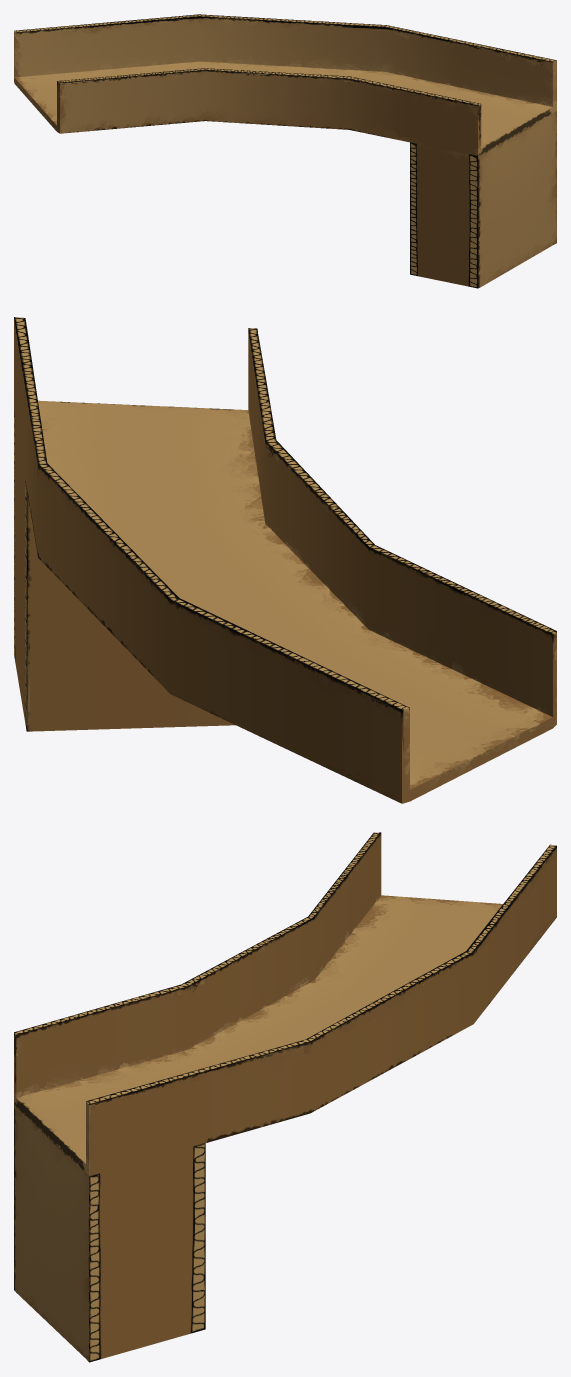
File: SM_Part9_Playtrack.fbx
3 renders of one model, top to bottom at view 1: azimuth 30°, elevation 25°; view 2: azimuth 150°, elevation 25°; view 3: azimuth 270°, elevation 25°, orthographic. The views are drawn at different scales.
Visible parts, largest first — view 1: Panel_9; view 2: Panel_9; view 3: Panel_9.
Part boxes in pixels (box(x1,y1,x2,y2)): Panel_9: box(14, 14, 556, 288); Panel_9: box(14, 317, 556, 803); Panel_9: box(14, 832, 556, 1362).
Size of the model in its own units: 9179 by 4050 by 7733.
